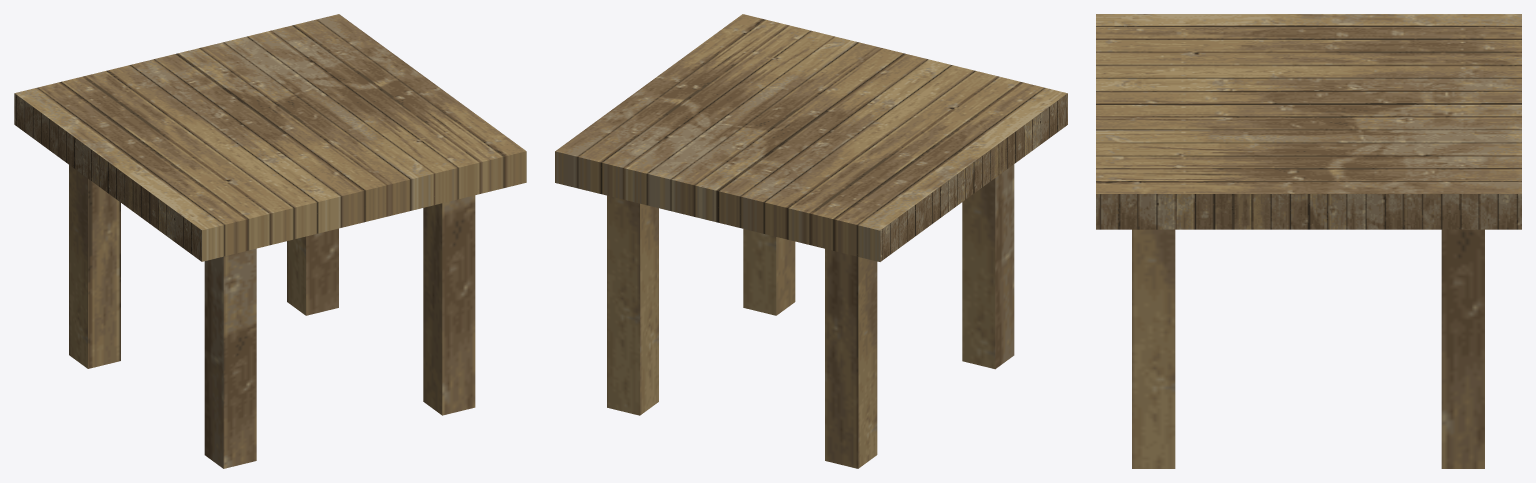
The model's file is Table.fbx.
3 renders of one model, left to right at view 1: azimuth 30°, elevation 25°; view 2: azimuth 150°, elevation 25°; view 3: azimuth 270°, elevation 25°, orthographic. The views are drawn at different scales.
Visible parts, largest first — view 1: Top, Leg.001, Leg, Leg.003, Leg.002; view 2: Top, Leg.003, Leg.002, Leg, Leg.001; view 3: Top, Leg.001, Leg.002.
Boxes of the visible parts, bbox=[...] form: Top: bbox=[14, 14, 526, 261]; Leg.001: bbox=[423, 195, 475, 415]; Leg: bbox=[204, 248, 256, 468]; Leg.003: bbox=[69, 165, 120, 368]; Leg.002: bbox=[287, 228, 338, 315]; Top: bbox=[555, 14, 1067, 261]; Leg.003: bbox=[825, 249, 877, 468]; Leg.002: bbox=[607, 195, 658, 415]; Leg: bbox=[962, 164, 1014, 369]; Leg.001: bbox=[743, 229, 795, 315]; Top: bbox=[1096, 14, 1521, 229]; Leg.001: bbox=[1132, 229, 1175, 468]; Leg.002: bbox=[1441, 229, 1484, 468].
Bounding box in the file's own units: 142 × 109 × 142.
1 material, 1 textured.
